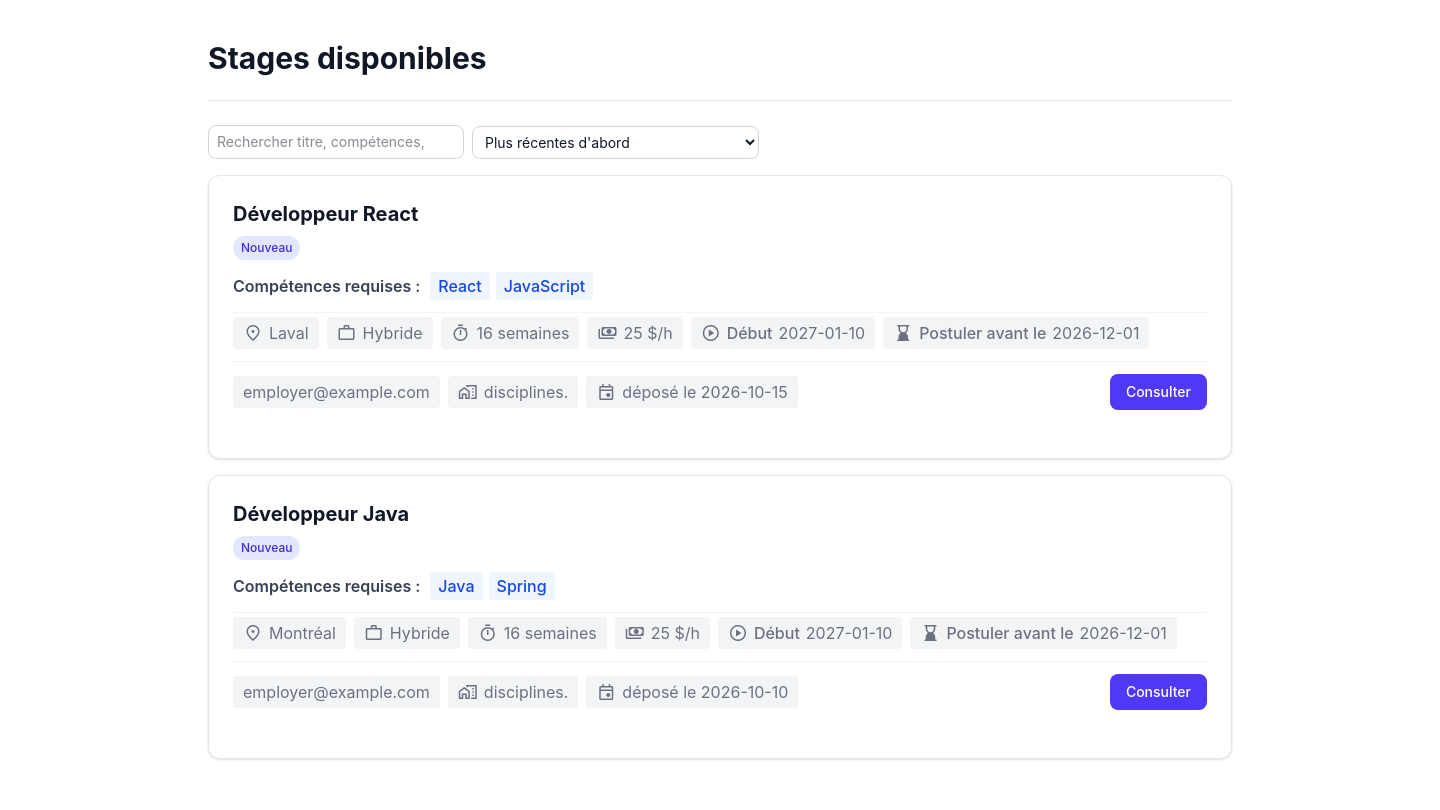
Scenario: StudentInternships allows students to consult offers › shouldNotMarkInternshipAgainWhenHidingDetails
The width and height of the screenshot is (1440, 810).
Expected: the heading "Développeur React" is shown, 233,202 -> 418,226
What coordinates should you click on to do the following:
click the button "Consulter" in the row of "2026-10-15"
I would click on:
 (1158, 392)
Its box is 1110,374 -> 1207,410.
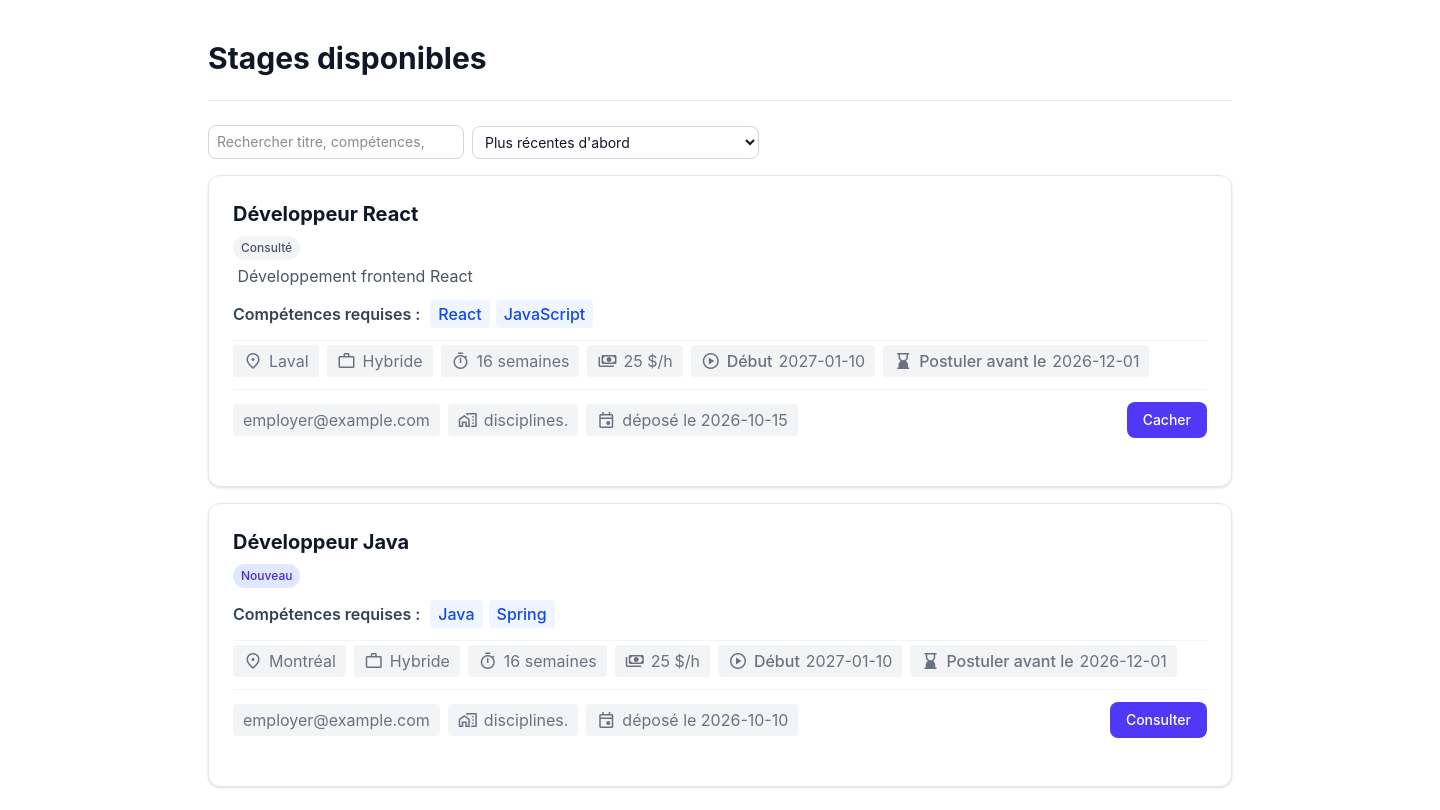
What coordinates should you click on to do the following:
click the button "Cacher"
I would click on:
 (1167, 420)
Its box is 1127,402 -> 1207,438.
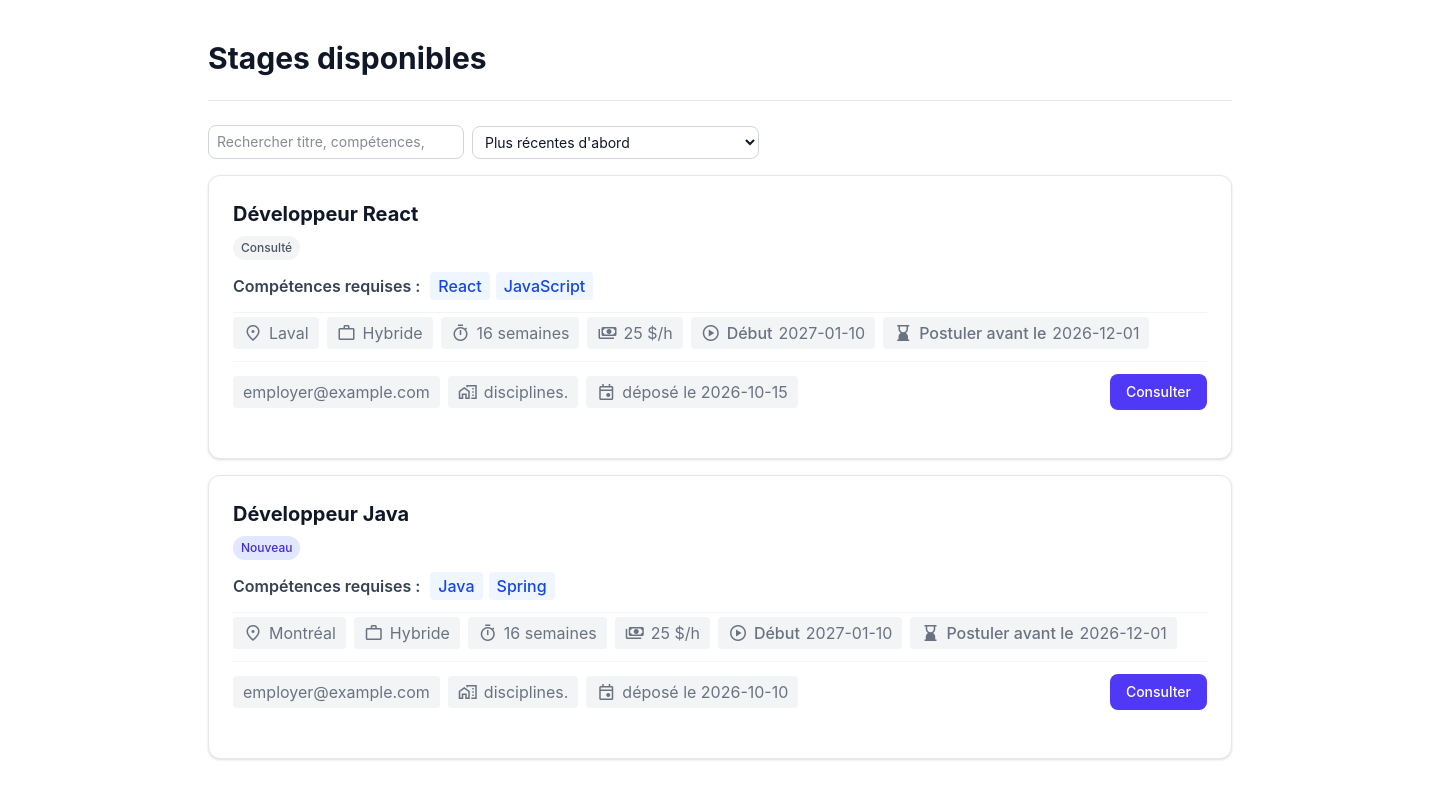
Now the text "Développement frontend React" is gone
